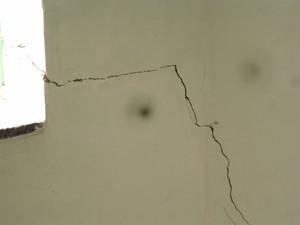crack: (31, 60, 251, 225)
